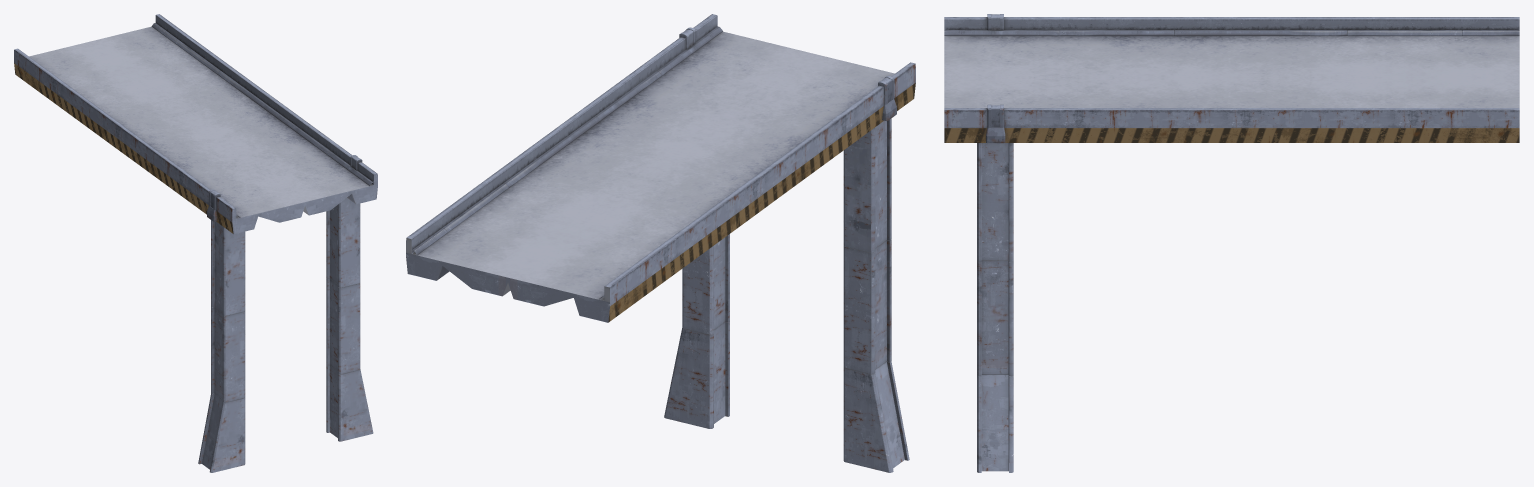
Rendered from Deathbridge.fbx.
The picture shows the model from 3 angles, left to right: view 1: azimuth 30°, elevation 25°; view 2: azimuth 150°, elevation 25°; view 3: azimuth 270°, elevation 25°; orthographic projection. The views are drawn at different scales.
Visible parts, largest first — view 1: Deathbridge; view 2: Deathbridge; view 3: Deathbridge.
Boxes of the visible parts, x1=… form: Deathbridge: x1=14, y1=14, x2=377, y2=472; Deathbridge: x1=406, y1=14, x2=915, y2=472; Deathbridge: x1=944, y1=14, x2=1519, y2=472.
Bounding box in the file's own units: 2898 × 4655 × 6727.
Materials: 1 (1 with a texture image).
